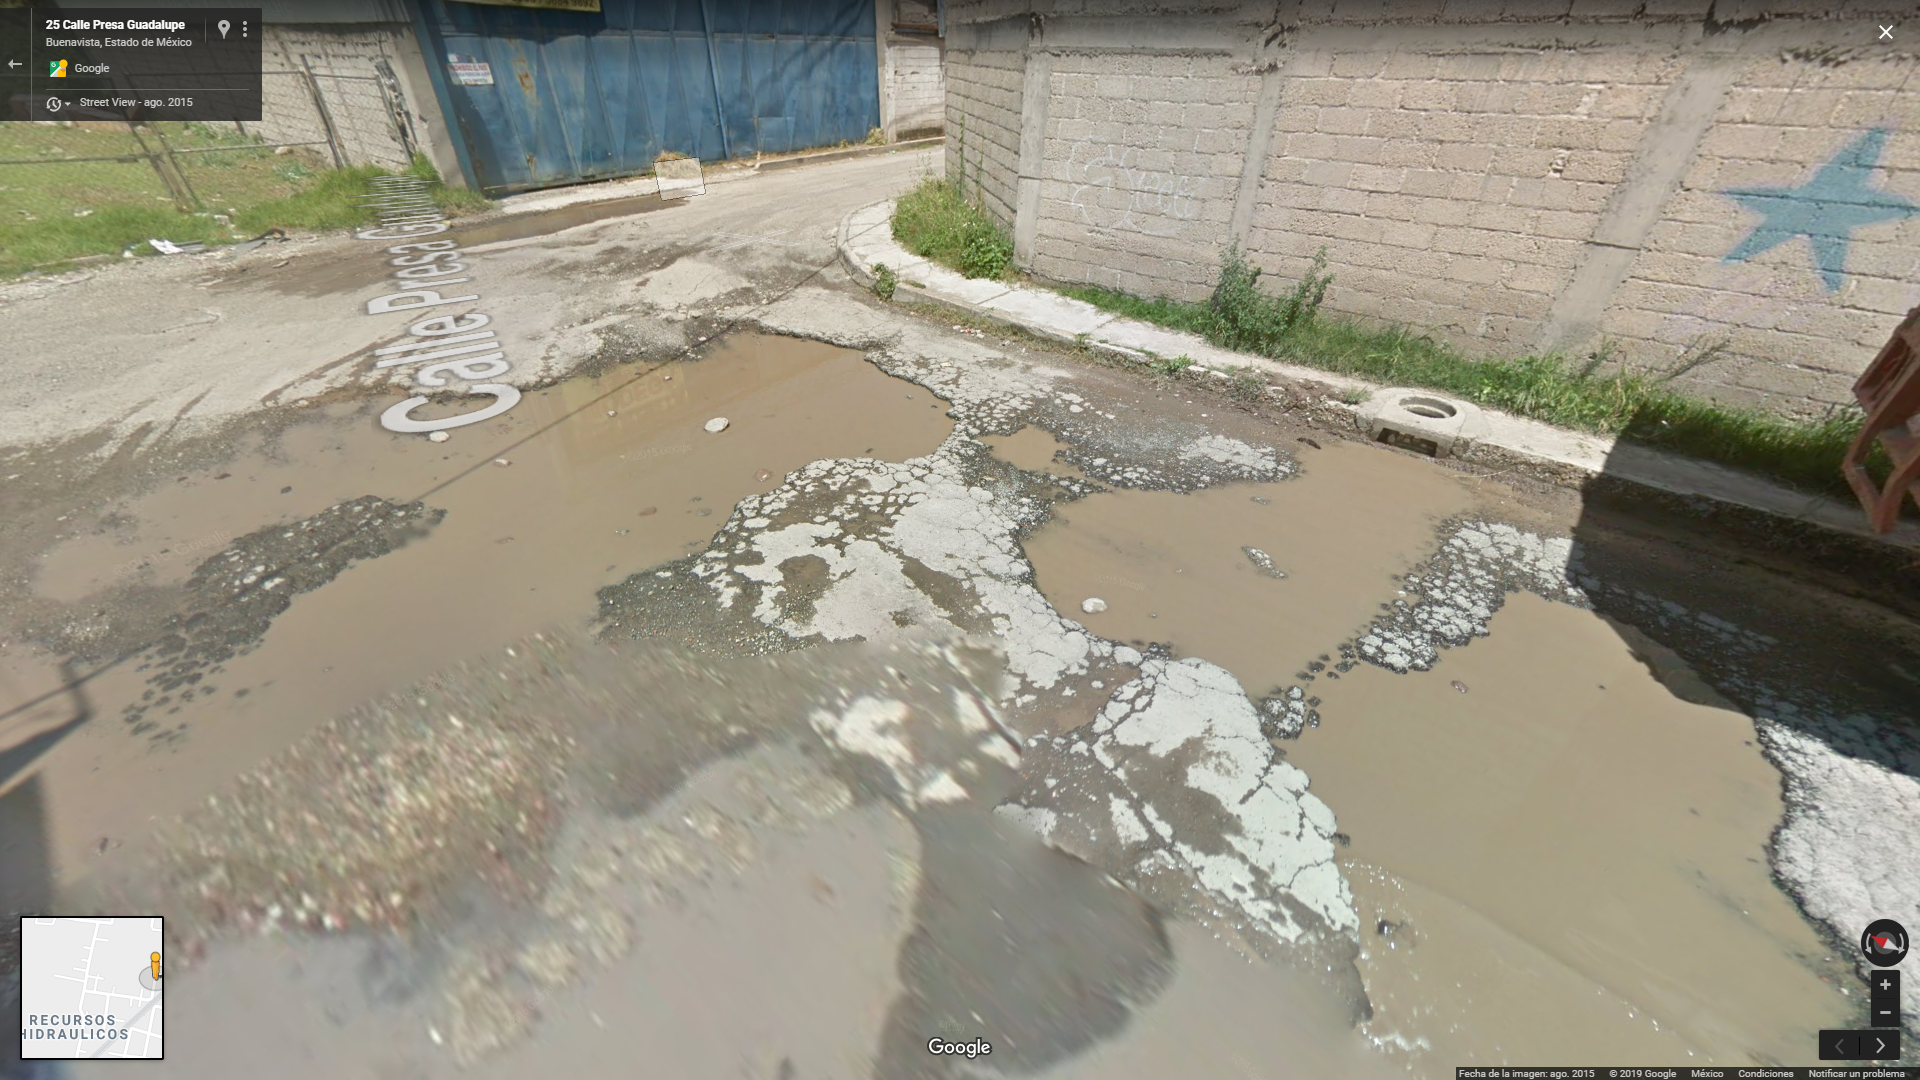pothole: (1025, 429, 1498, 665), (34, 371, 369, 625), (965, 400, 1096, 487)
